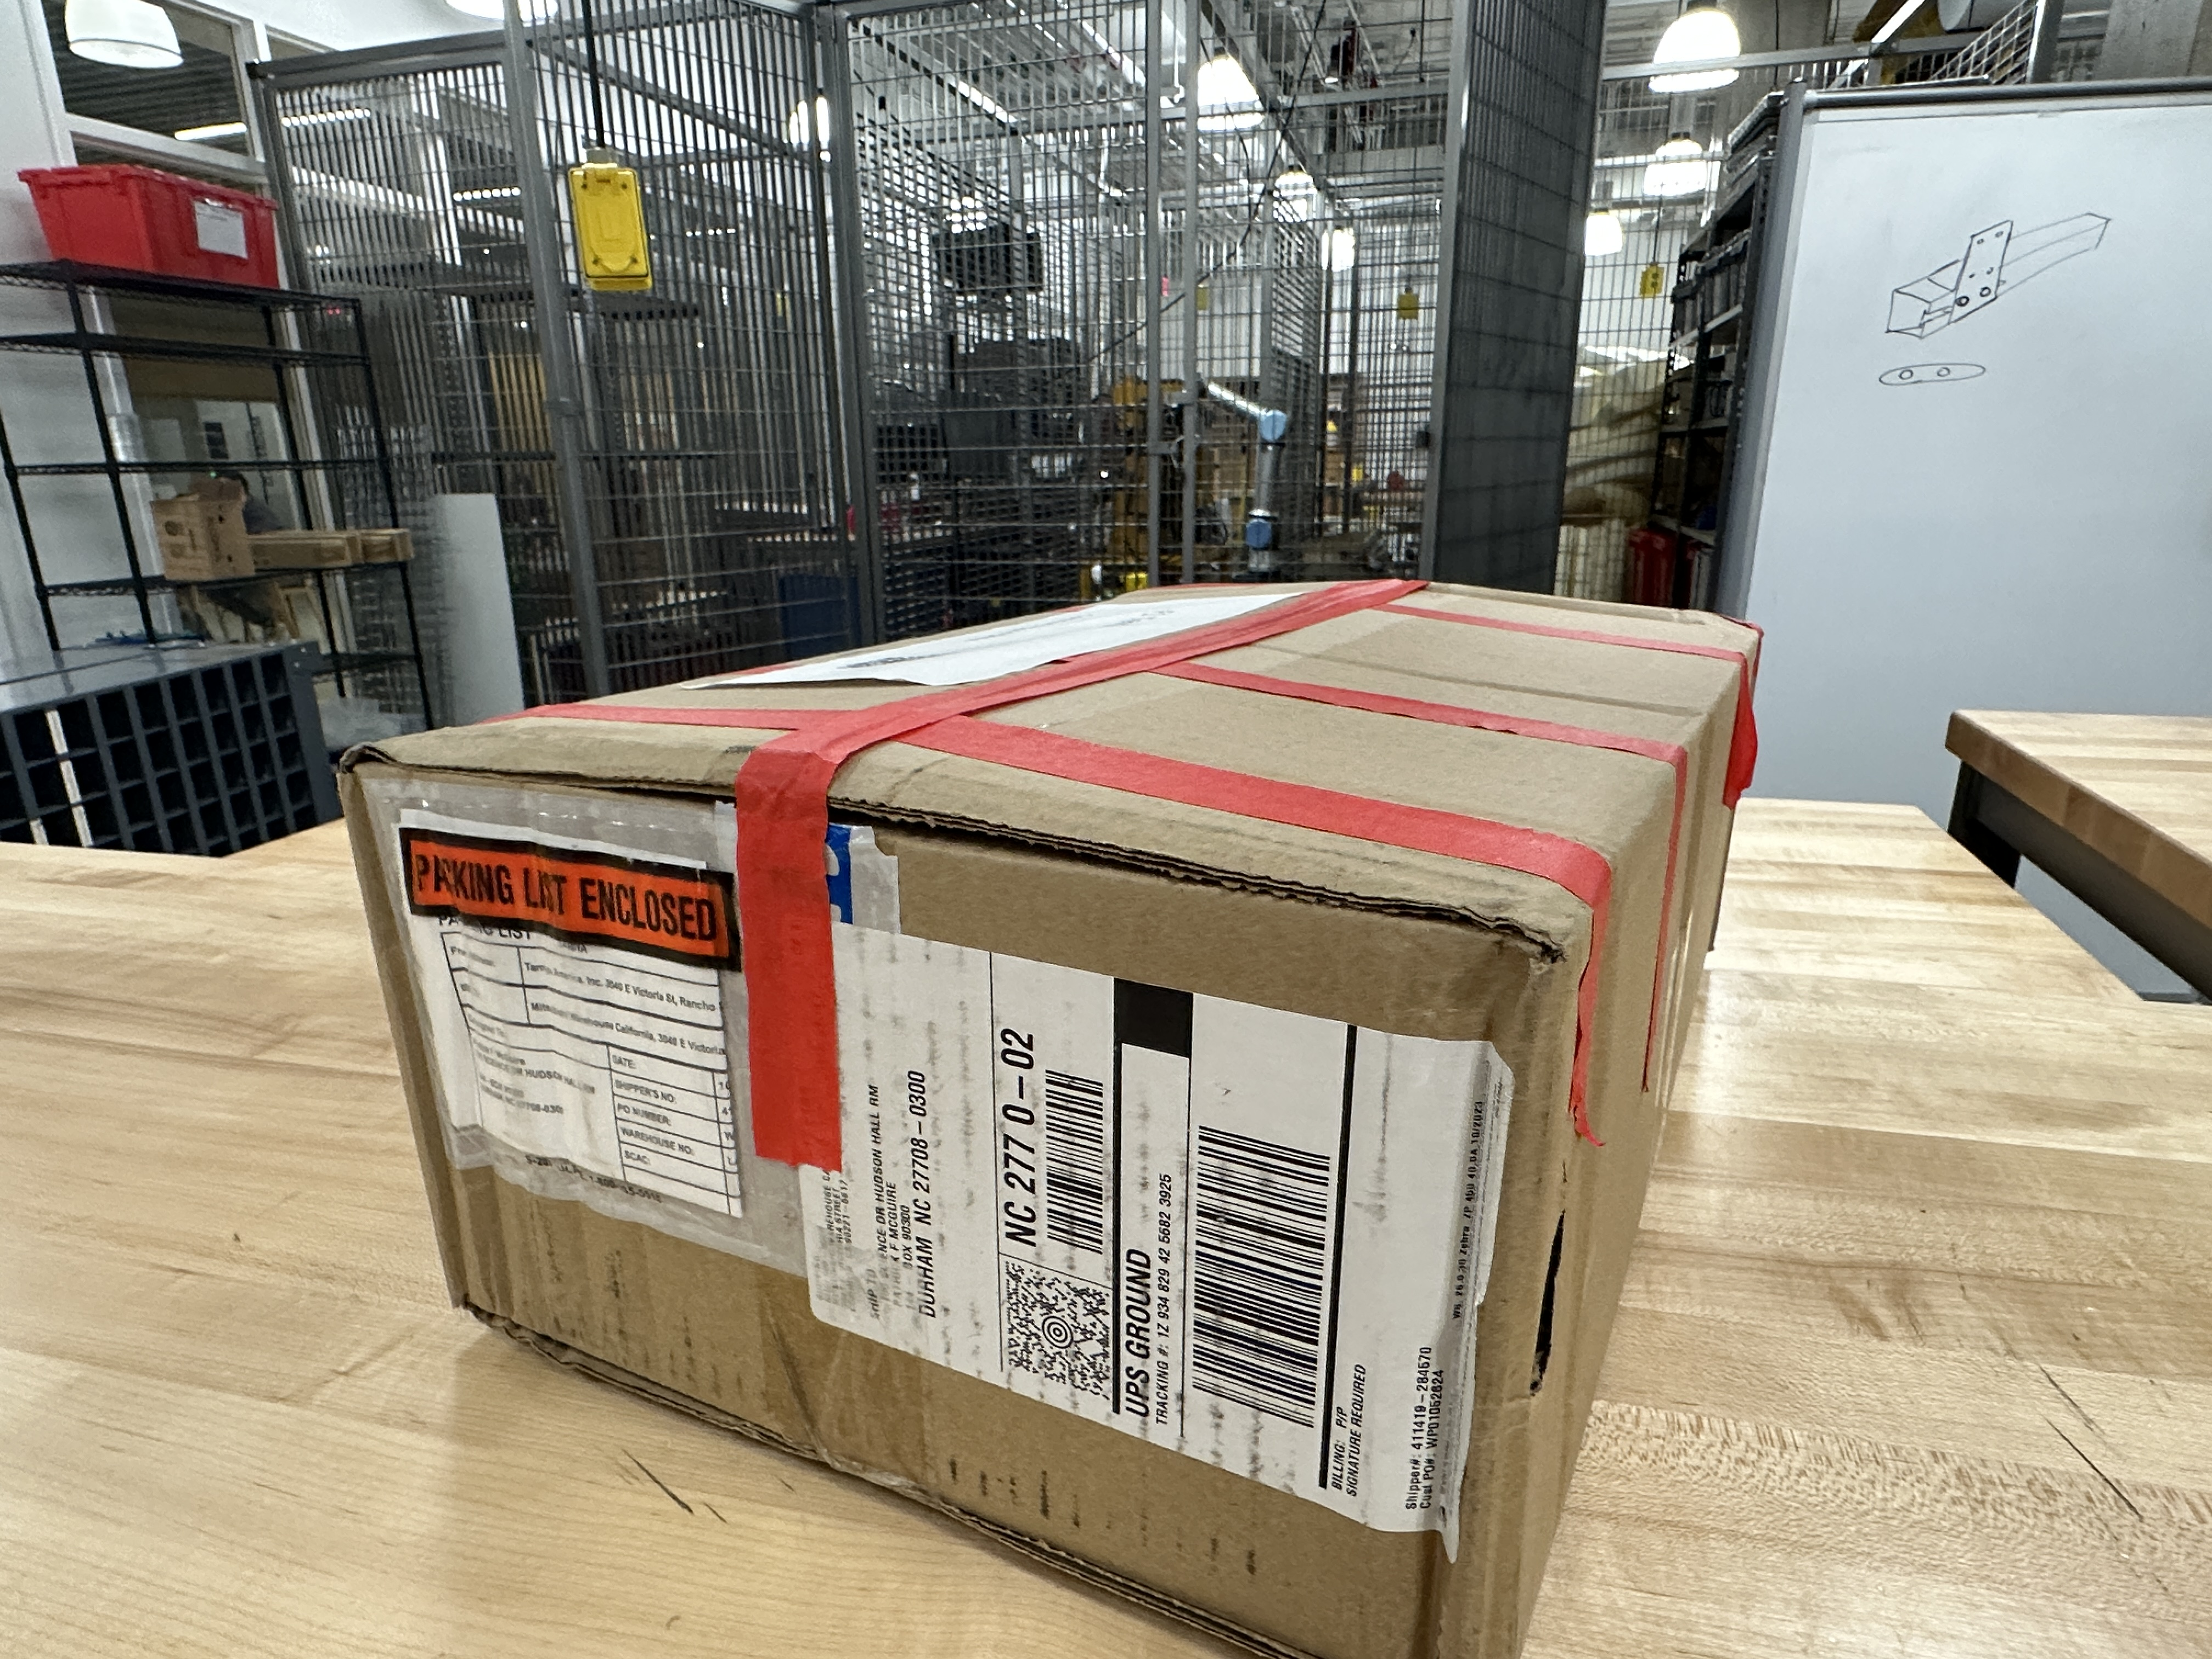Box_Obstacle: (324, 559, 1778, 1656)
